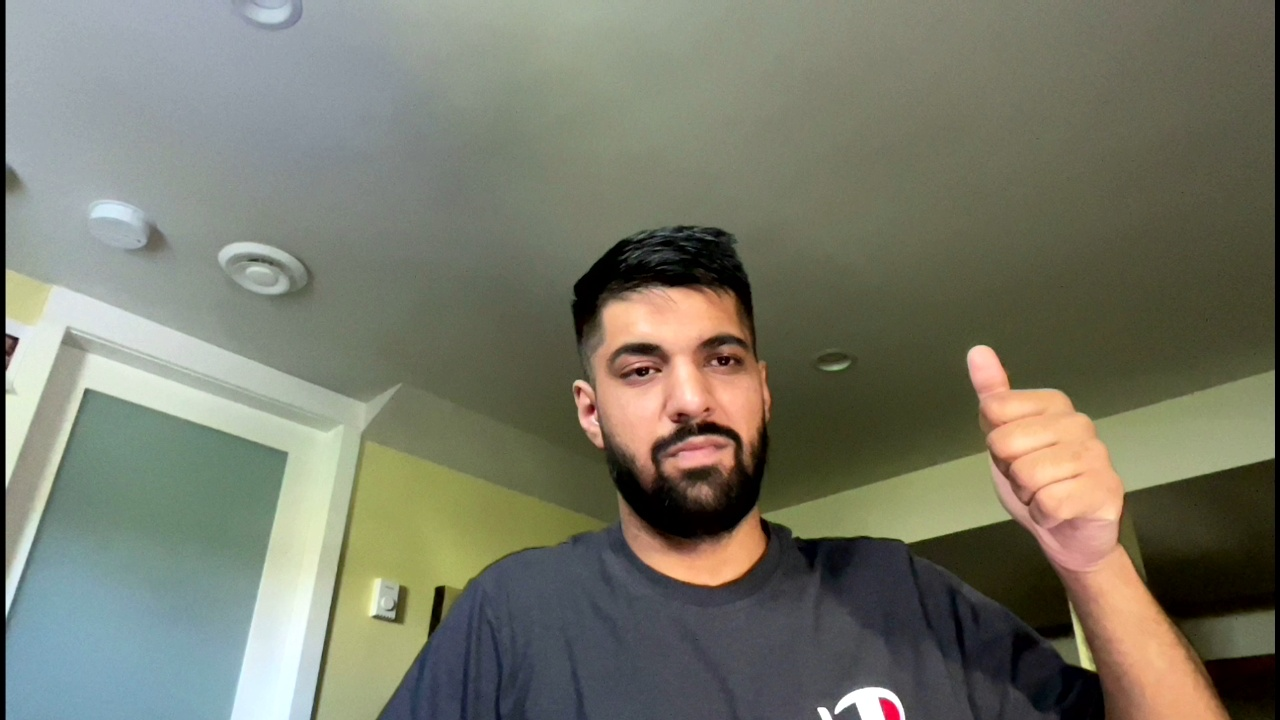Yes: (941, 342, 1144, 558)
